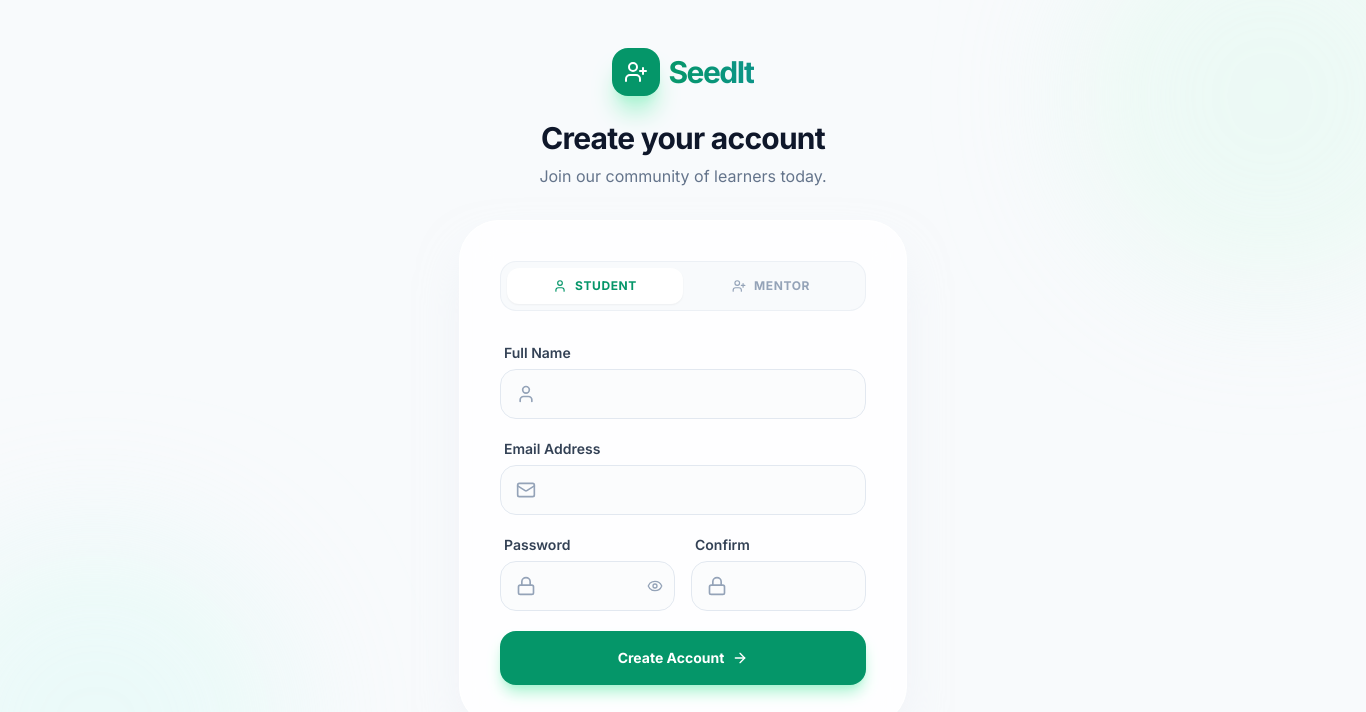
Test: Validation Testing - Register Component › clears mismatch error when user types again
Type "Test" into the field labelled "Full Name" at (683, 394), box [500,369,866,419]
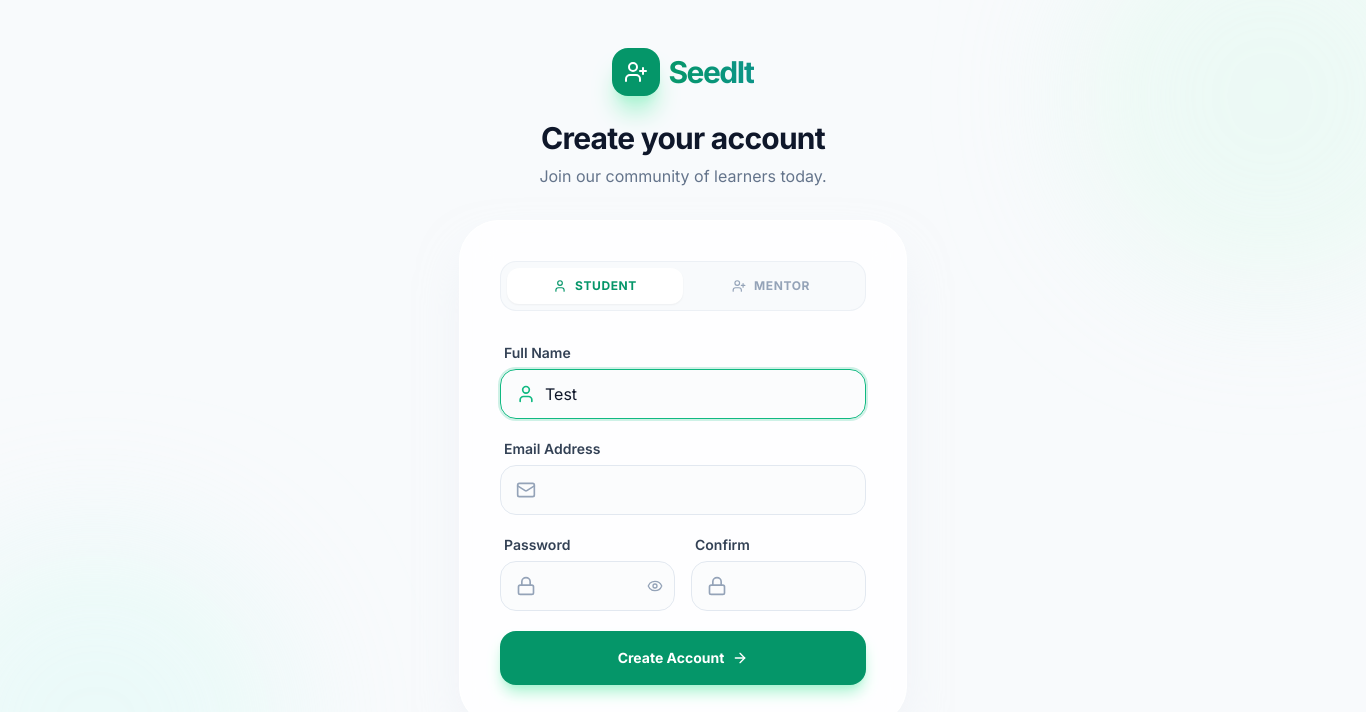
Type "test@test.com" into the field labelled "Email Address" at (683, 490), box [500,465,866,515]
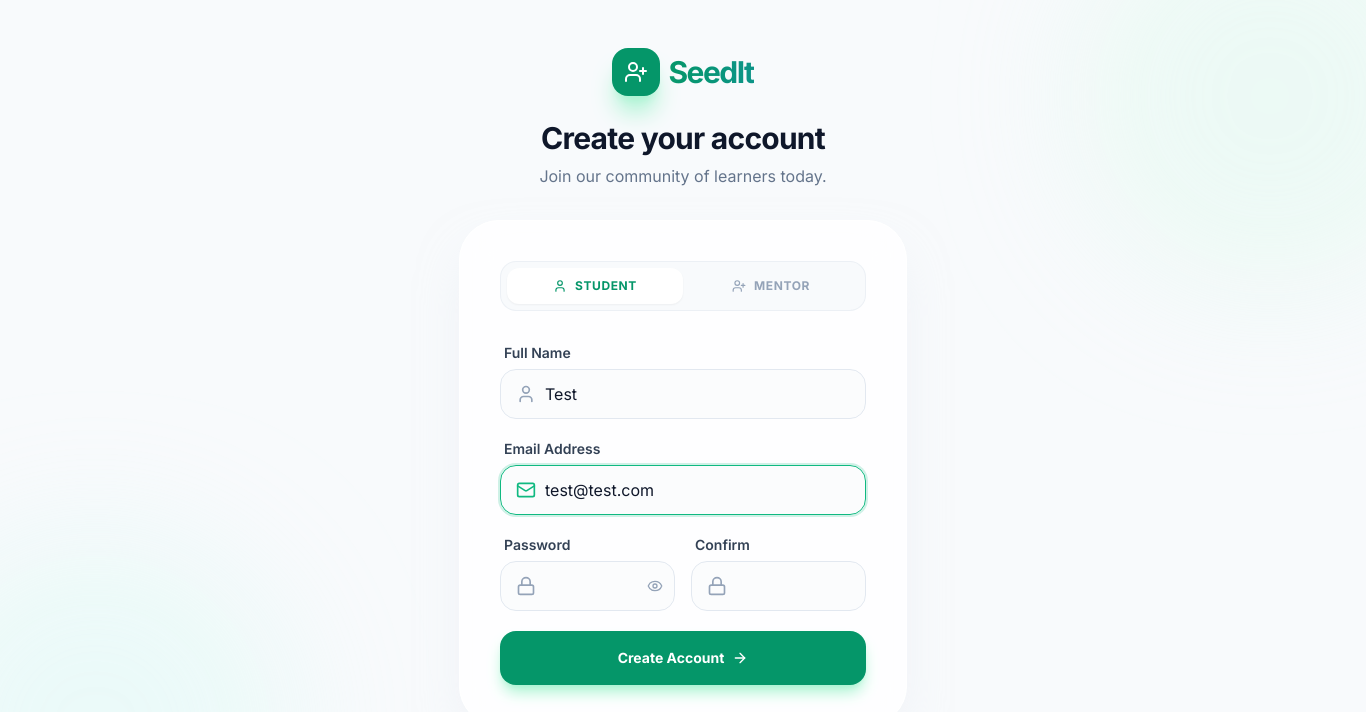
Type "abc" into the password field labelled "Password" at (588, 586), box [500,561,675,611]
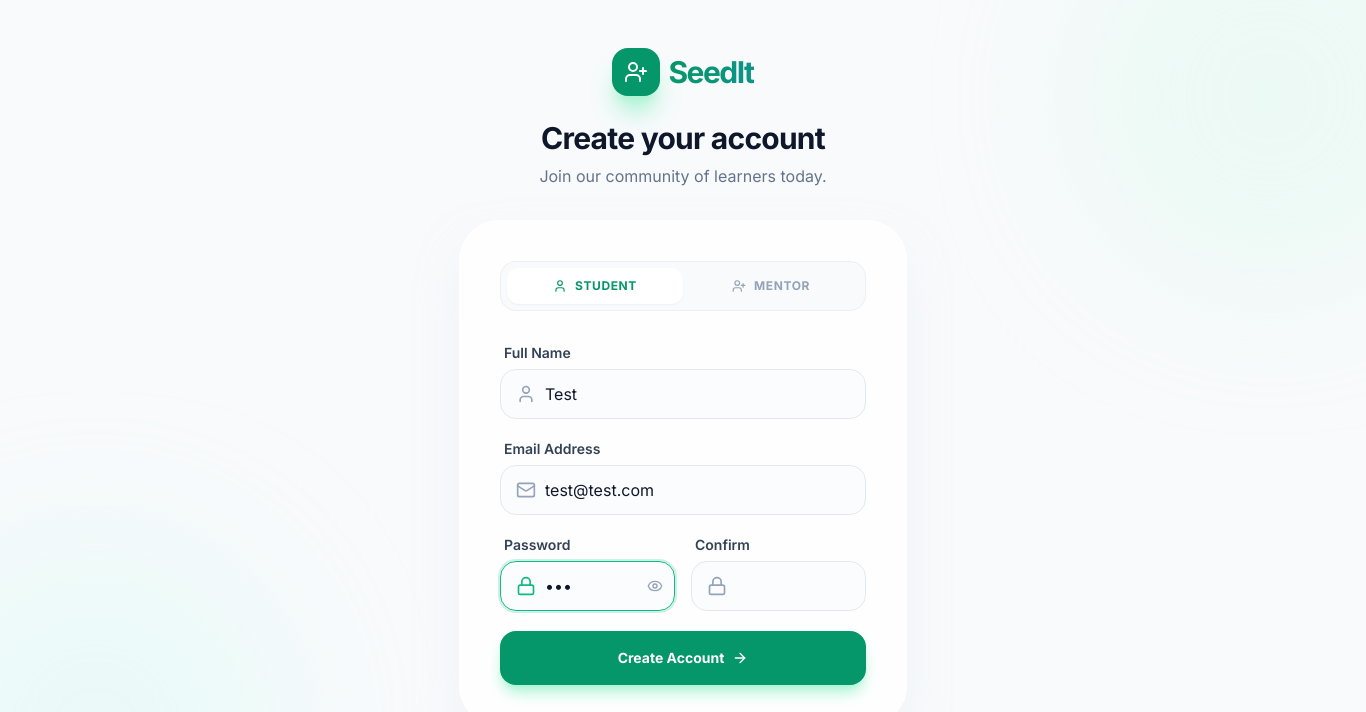
Type "xyz" into the password field labelled "Confirm" at (778, 586), box [691,561,866,611]
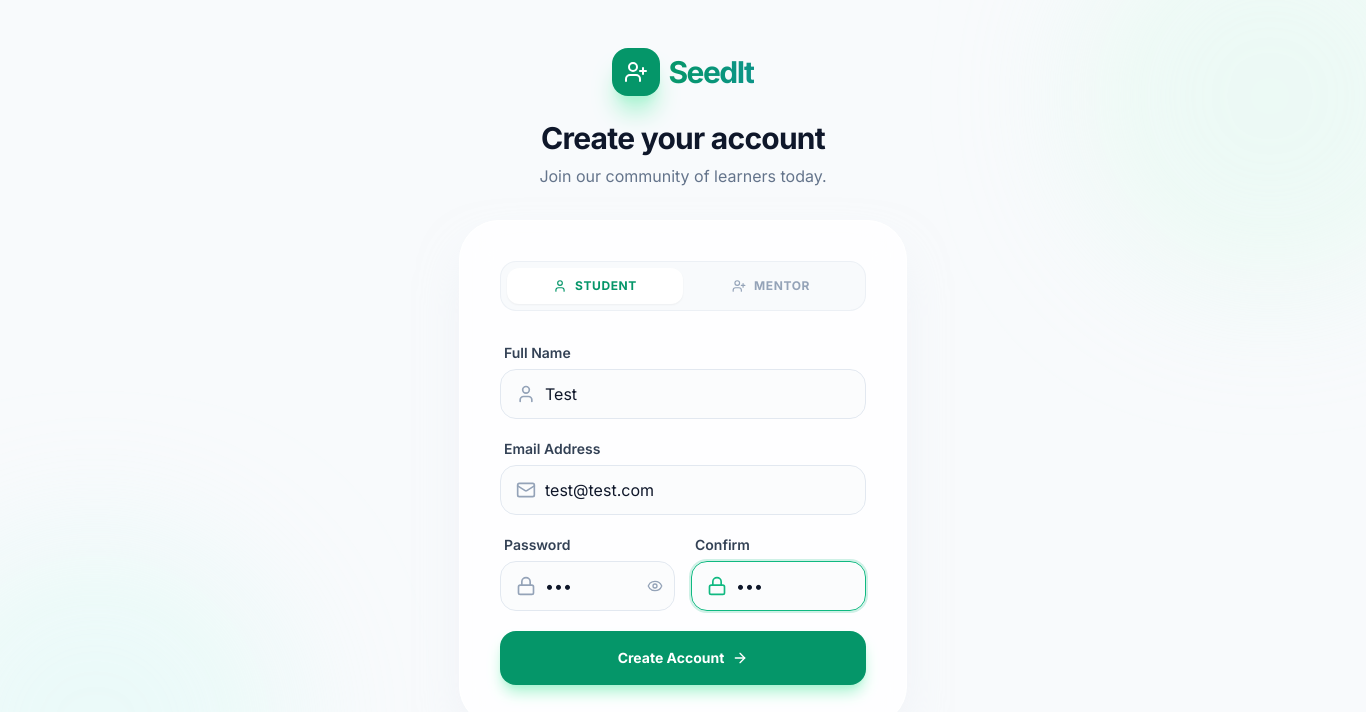
Click the button "Create Account" at (683, 658), box [500,631,866,685]
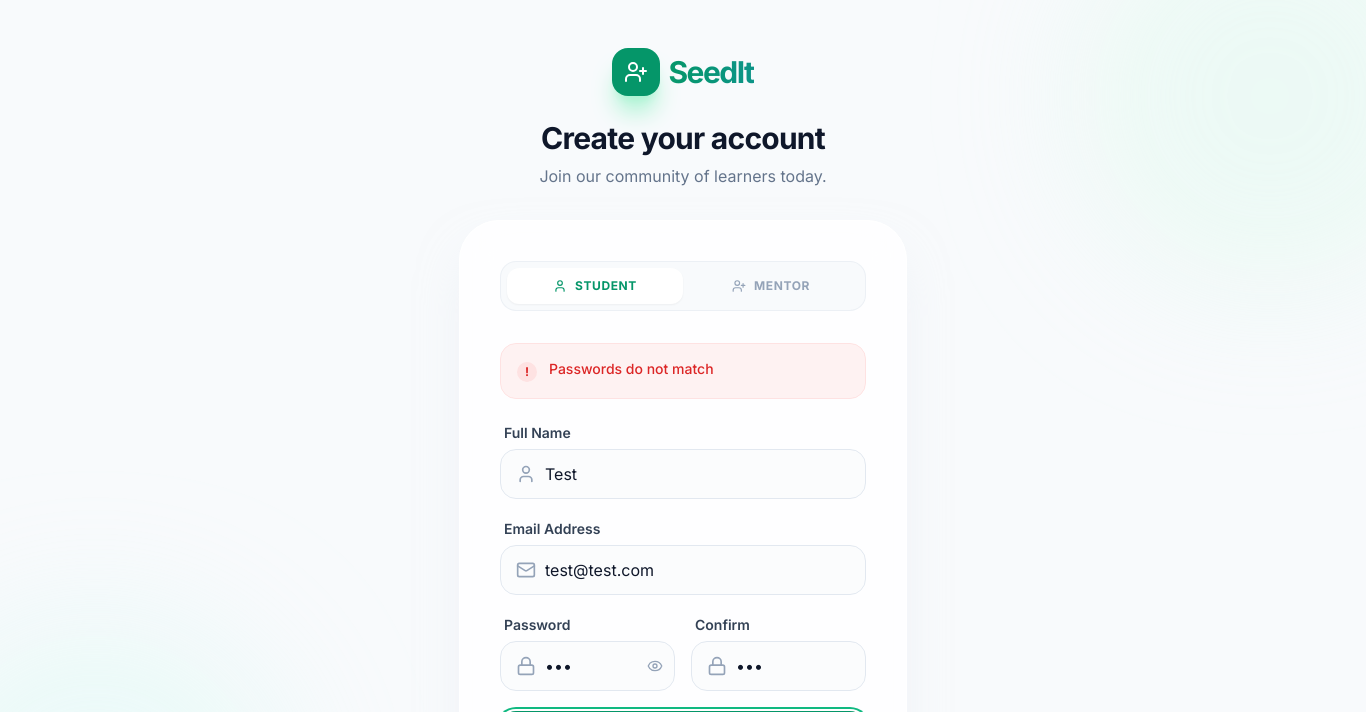
expect the text "Passwords do not match" is shown: met, box [549,360,714,378]
Note: Start typing again to clear error
Type "A" into the field labelled "Full Name" at (683, 474), box [500,449,866,499]
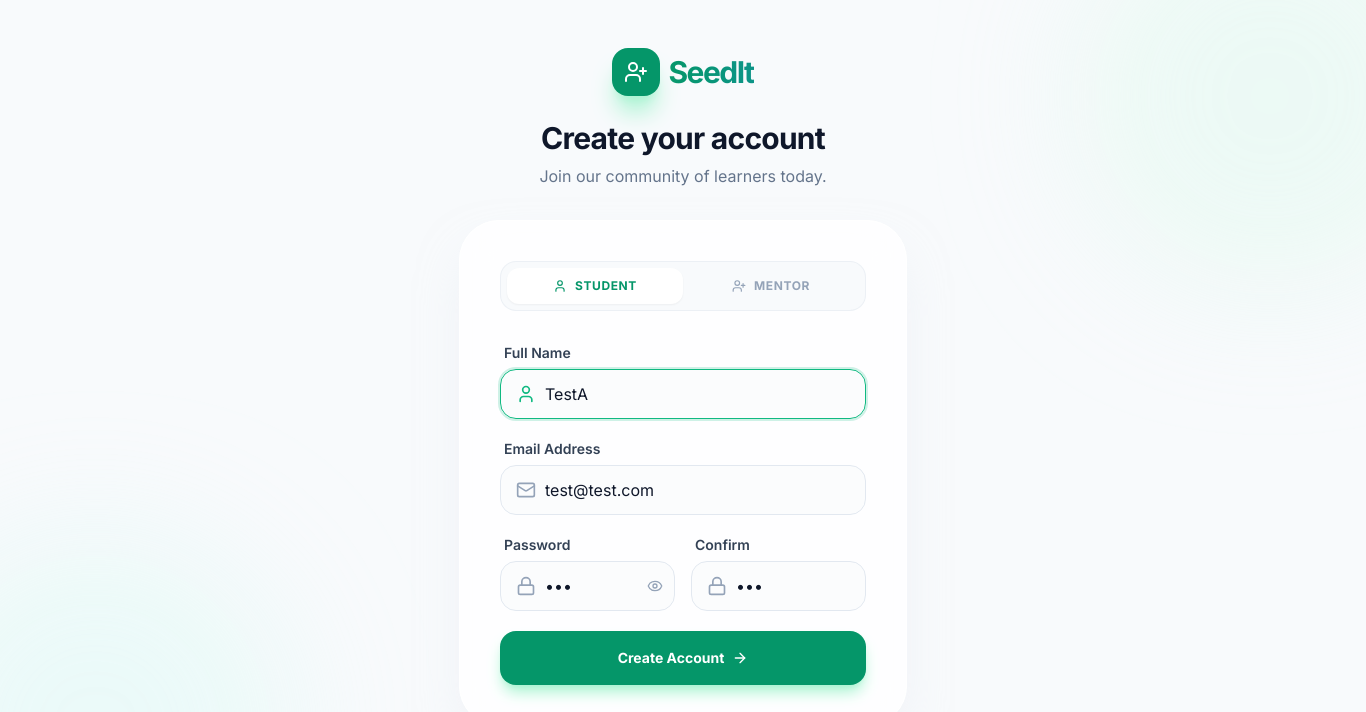
expect the text "Passwords do not match" is gone: met
